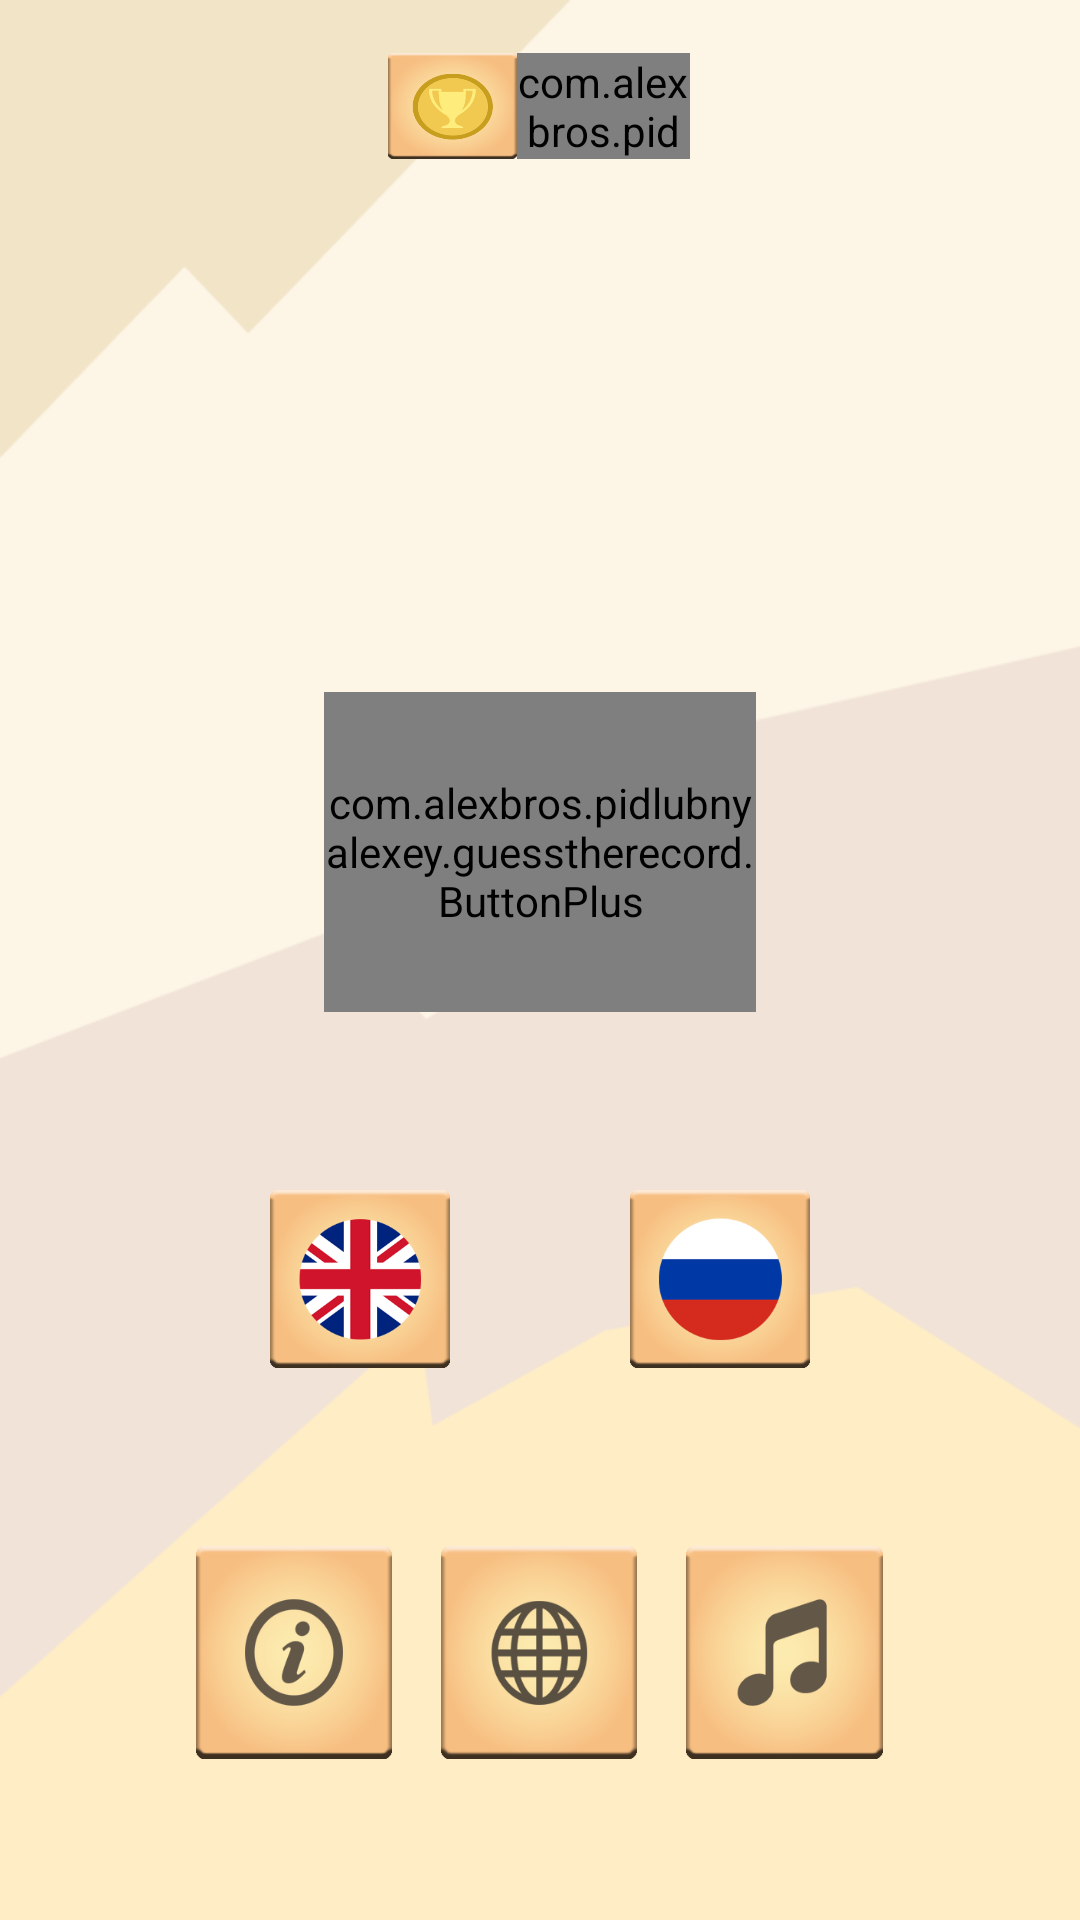

Icon click points for this 1080 x 1920 phone screenshot, format (x,y):
british: (360,1280)
change language: (539,1654)
infoicon: (294,1654)
musicon: (784,1654)
russian: (720,1280)
score: (452,106)
